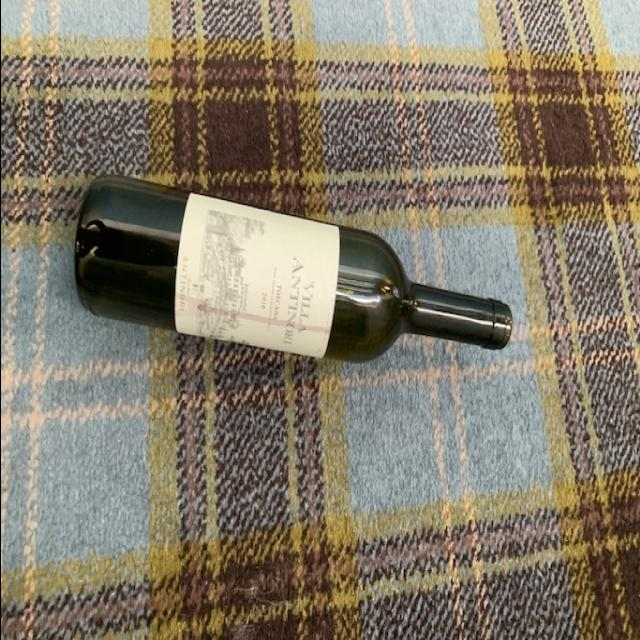litter: (71, 172, 516, 366)
